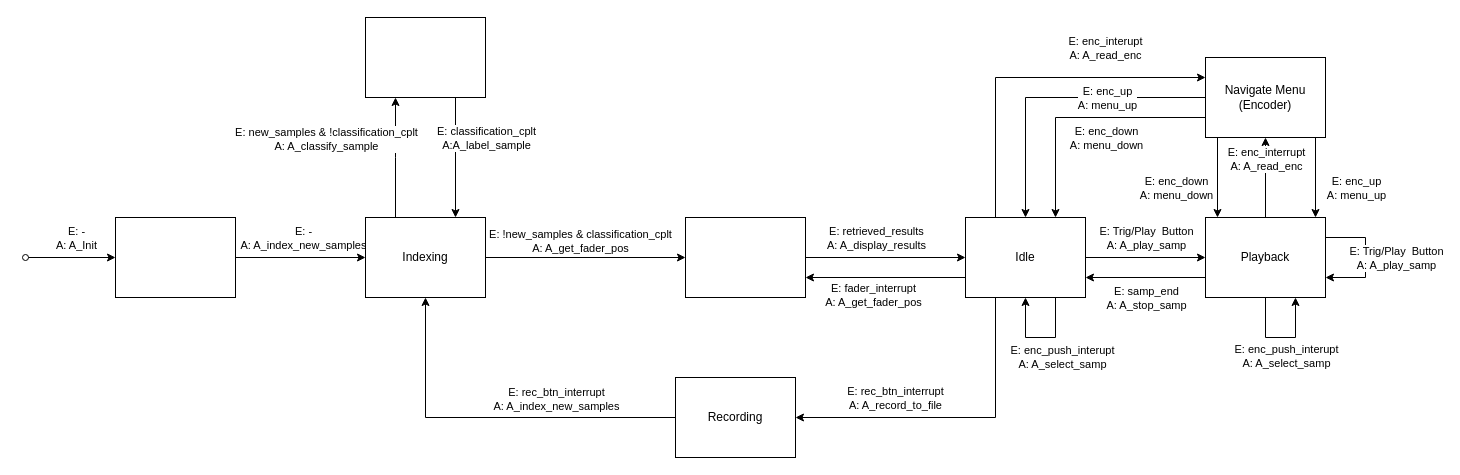
The diagram is 1460 pixels wide and 475 high, and some of its shapes have lost their labels. Here are the shapes that lost their labels. From the top down, the centre of each, then its label:
the point at 425,57: Classification
the point at 175,257: Init
the point at 745,257: Applying Searchfilter (Fader)
